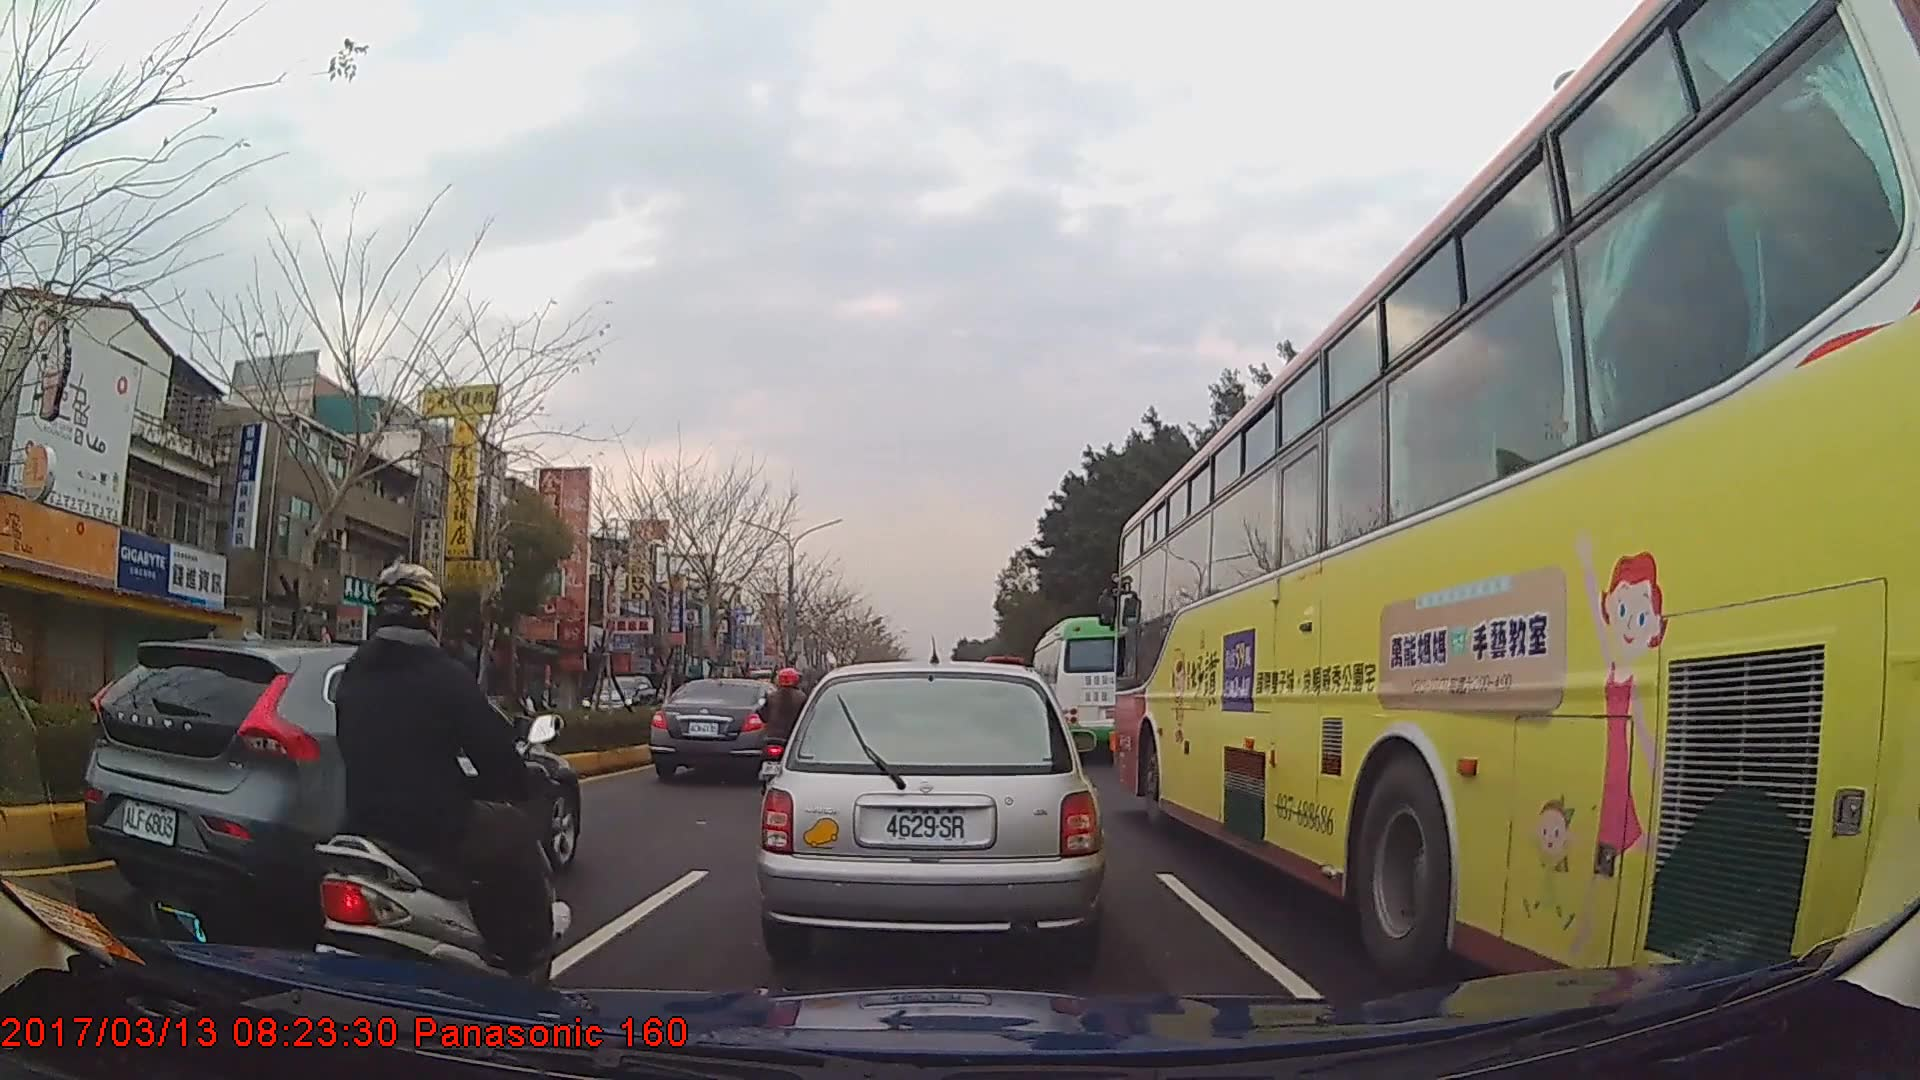rider: (323, 562, 567, 993), (759, 667, 817, 794)
vehicle: (1110, 0, 1920, 1012), (77, 635, 579, 925), (756, 658, 1105, 965), (1030, 614, 1147, 759), (650, 673, 801, 783), (582, 673, 667, 730)
